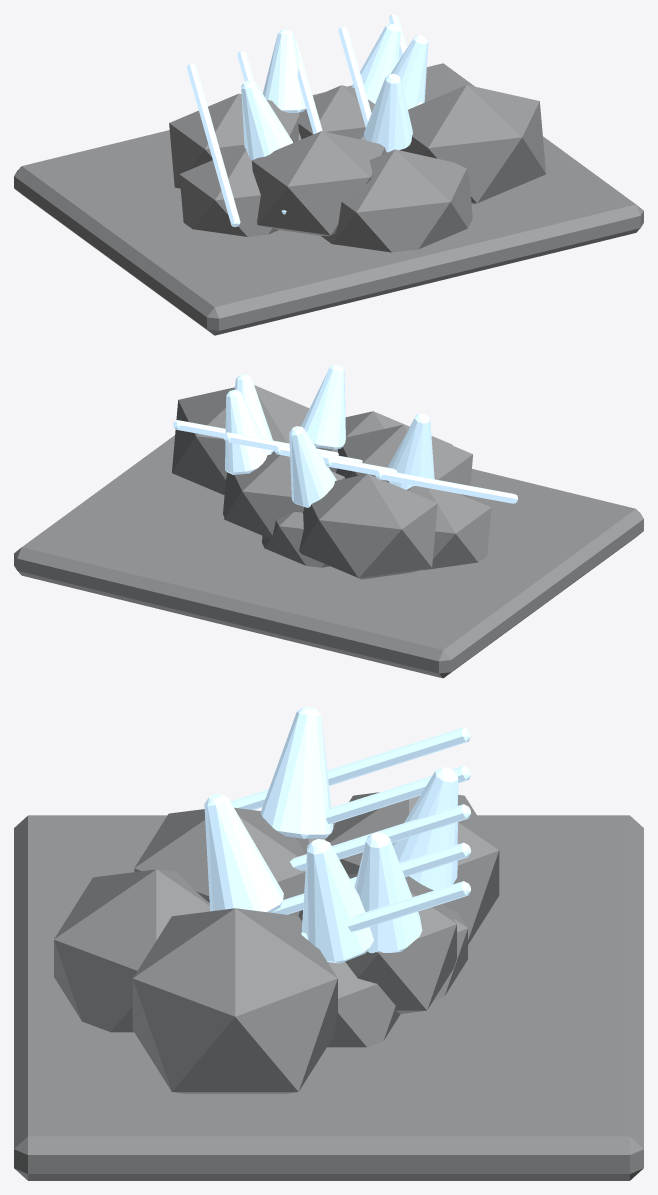
File: old_wood_silver_thread.glb
3 views of the same model, one above another, from view 1: azimuth 30°, elevation 25°; view 2: azimuth 150°, elevation 25°; view 3: azimuth 270°, elevation 25° (orthographic). The views are drawn at different scales.
Bounding box in the file's own units: 2.25 × 0.8806 × 1.8.
